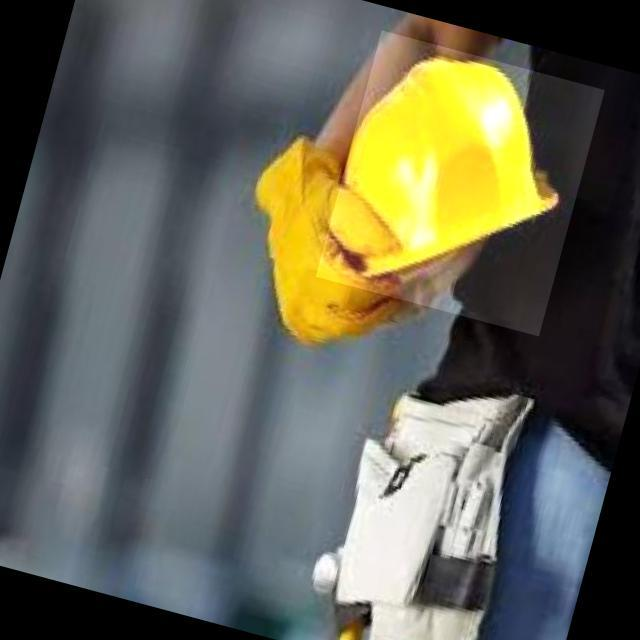Gloves: (243, 128, 435, 349)
Helmet: (326, 60, 560, 264)
